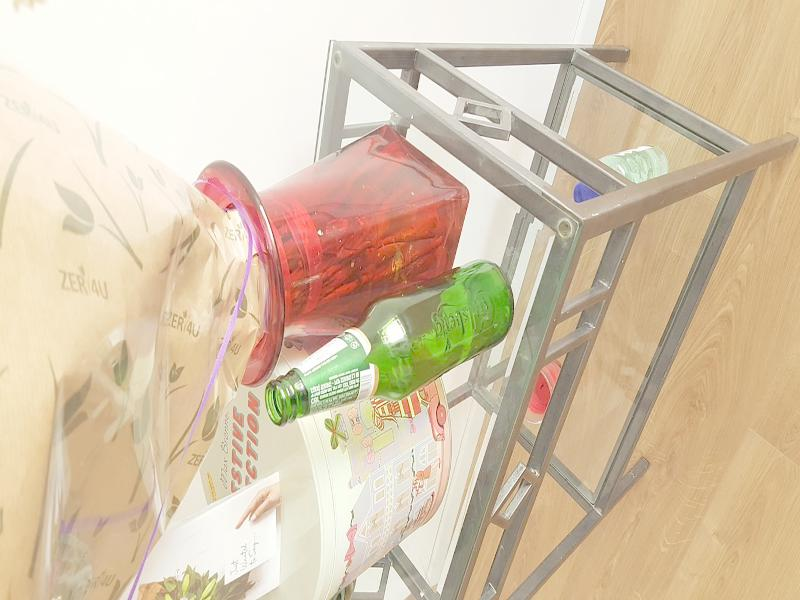Beer: (264, 259, 513, 423)
